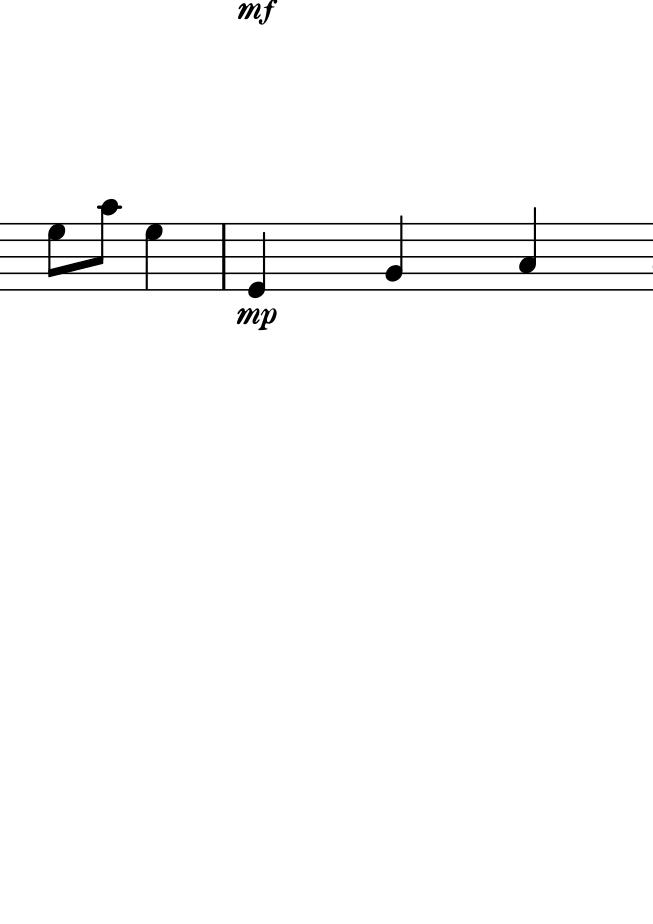4_0: (246, 221, 267, 299)
4_2: (384, 214, 407, 292)
4_3: (518, 205, 541, 294)
4_7: (141, 222, 169, 293)
8_10: (85, 198, 120, 292)
8_7: (45, 223, 66, 292)
Single_barline: (213, 222, 235, 292)
mf: (235, 1, 275, 33)
mp: (237, 303, 282, 336)
